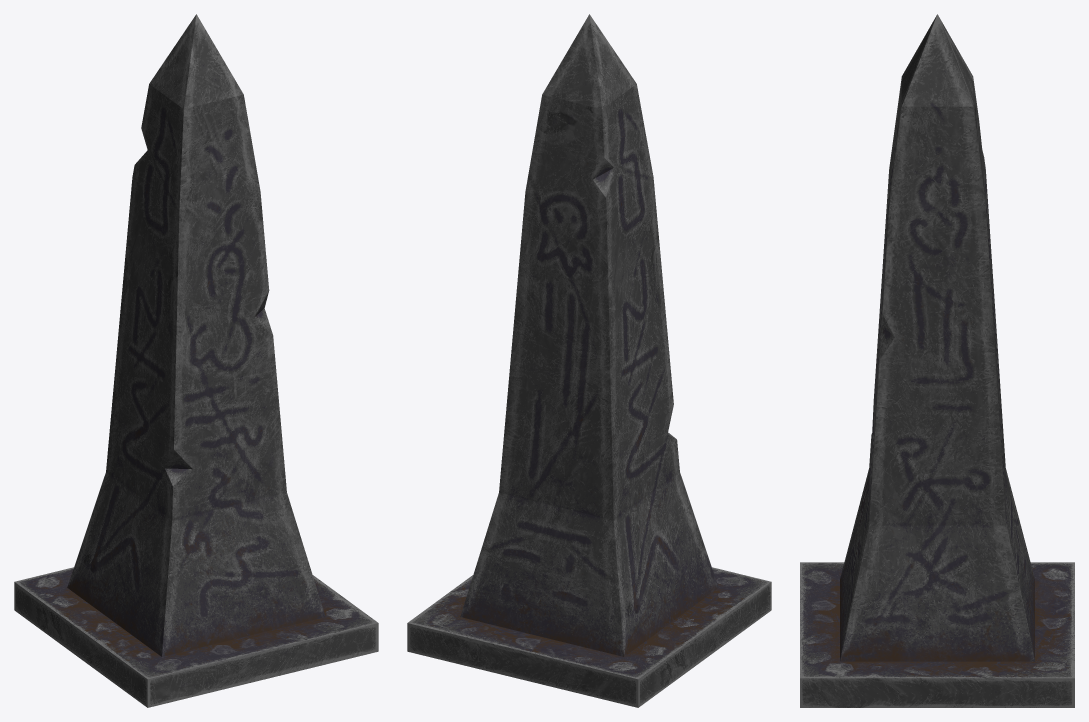
Rendered from monolith.glb.
The picture shows the model from 3 angles, left to right: view 1: azimuth 30°, elevation 25°; view 2: azimuth 150°, elevation 25°; view 3: azimuth 270°, elevation 25°; orthographic projection. The views are drawn at different scales.
Visible parts, largest first — view 1: monolith_UV; view 2: monolith_UV; view 3: monolith_UV.
Boxes of the visible parts, box(x1,y1,x2,y2) form: monolith_UV: box(14, 14, 378, 707); monolith_UV: box(407, 14, 771, 707); monolith_UV: box(800, 14, 1074, 707).
Size of the model in its own units: 2.01 by 5.14 by 2.01.
1 material, 1 textured.
